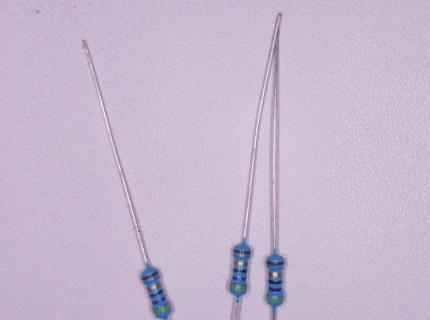Gold band: (147, 282, 161, 291), (234, 260, 248, 266), (269, 272, 282, 277)
Violet band: (152, 296, 166, 305), (268, 287, 282, 292), (232, 276, 246, 280)
Yellow band: (153, 304, 171, 315), (229, 284, 247, 290), (266, 295, 284, 301)
